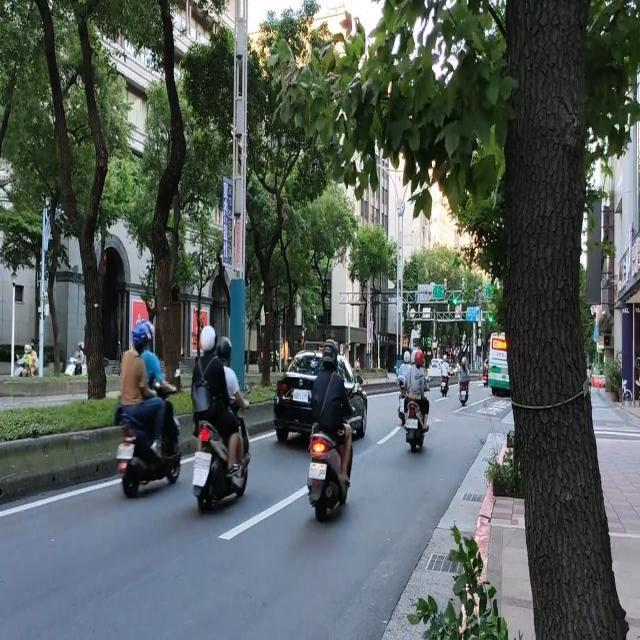Helmet: (194, 322, 221, 358), (127, 320, 153, 354), (319, 336, 341, 370), (215, 334, 235, 366), (411, 348, 426, 368)
bike: (116, 366, 183, 497), (191, 381, 256, 514), (307, 372, 362, 522), (405, 377, 430, 453)
rider: (192, 322, 242, 478), (120, 319, 168, 459), (313, 336, 354, 484), (215, 332, 252, 475), (139, 319, 177, 409), (408, 347, 430, 429)
